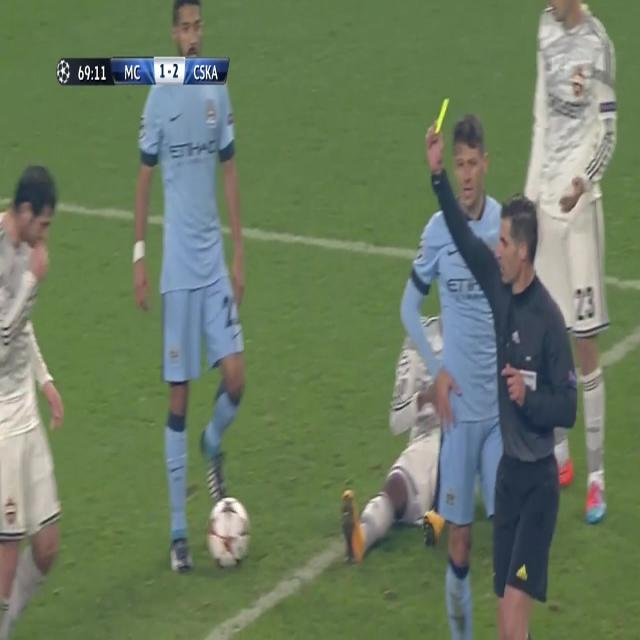Ball: (205, 492, 251, 570)
Player: (130, 3, 250, 576), (400, 113, 502, 638), (525, 1, 619, 521), (1, 158, 68, 638), (340, 308, 448, 554)
Referee: (425, 101, 577, 635)
